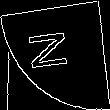N_E: (30, 32, 80, 78)
